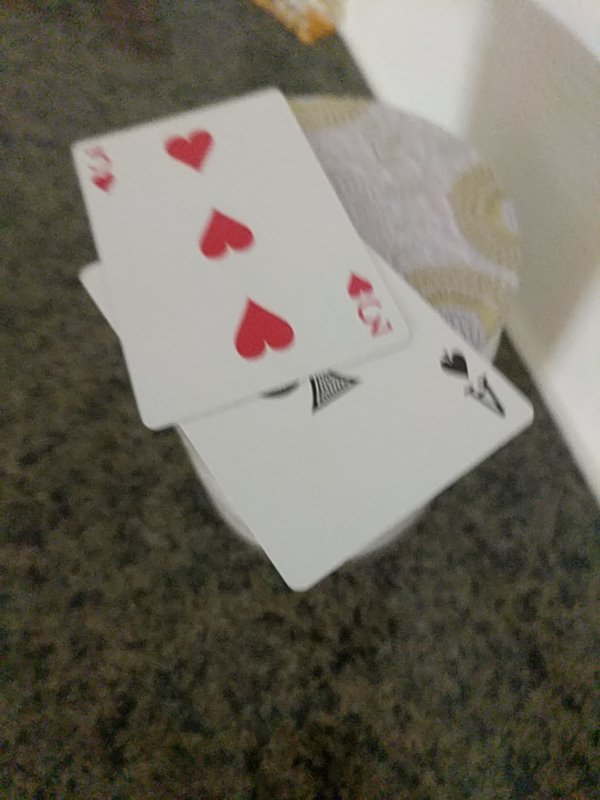Hearts: (66, 88, 406, 433)
Spades: (85, 256, 535, 592)
